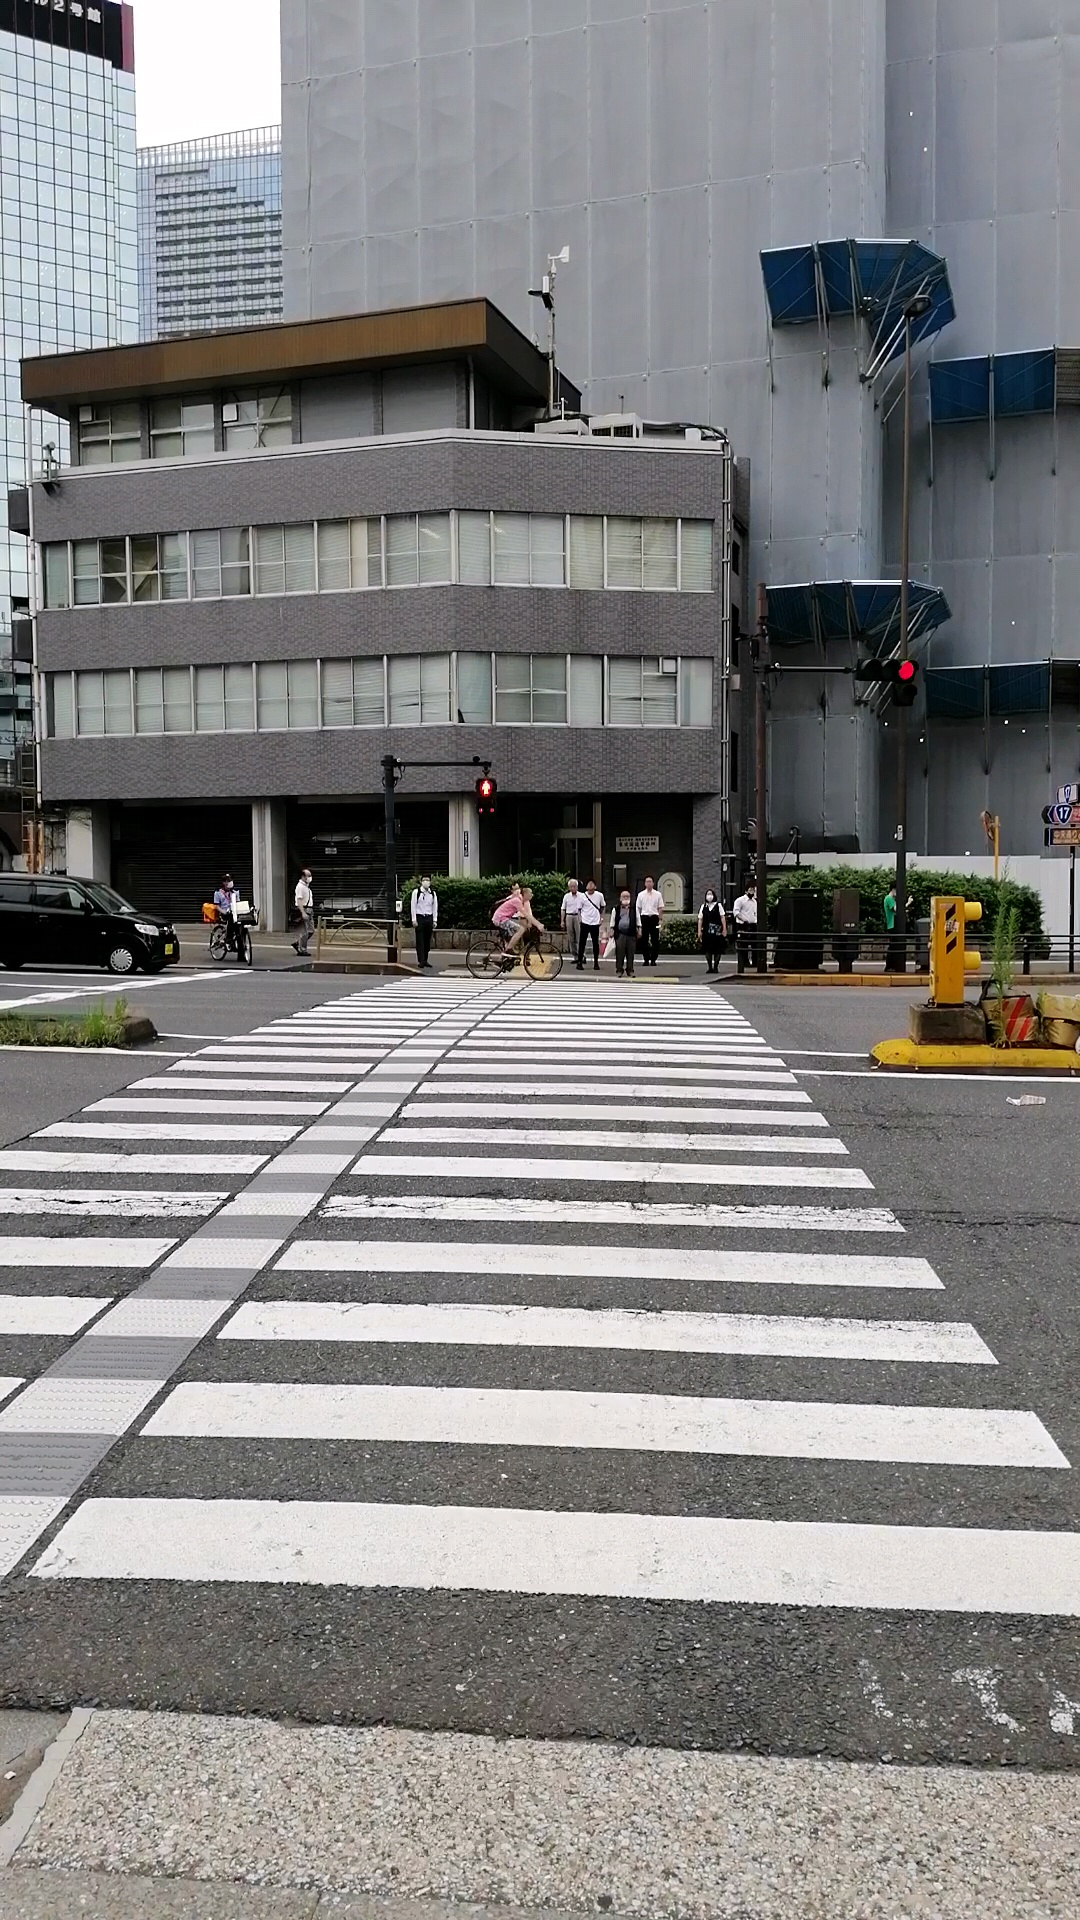red: (475, 778, 497, 818)
